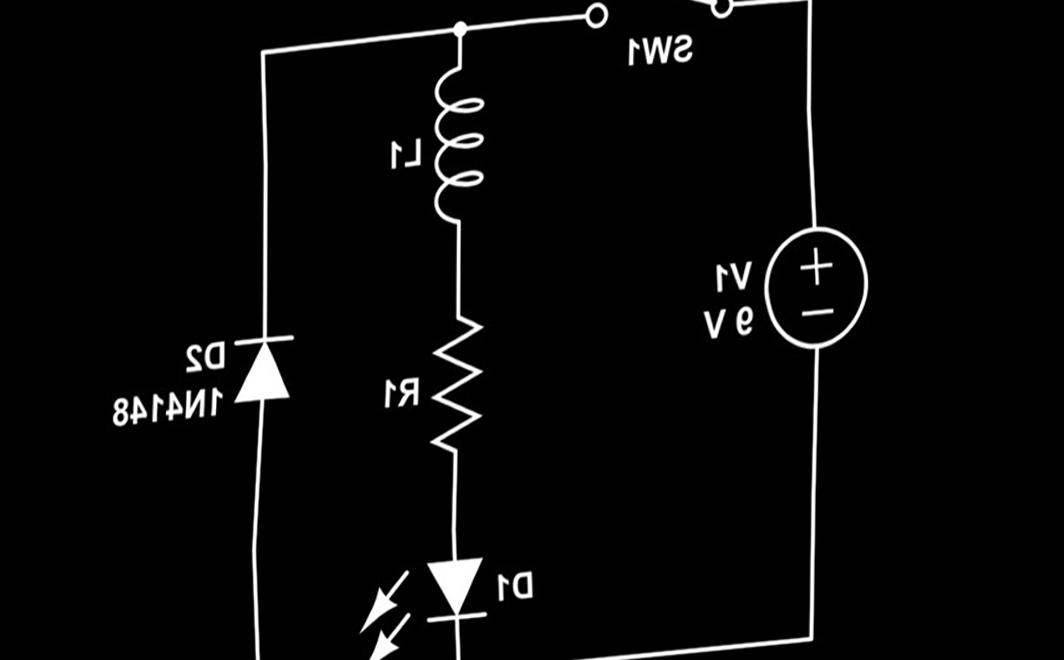Battery: (754, 208, 887, 365)
